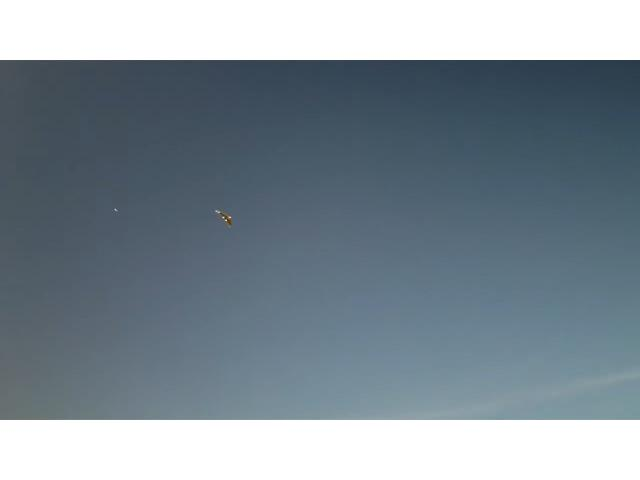Anti-Drone: (215, 210, 233, 226)
